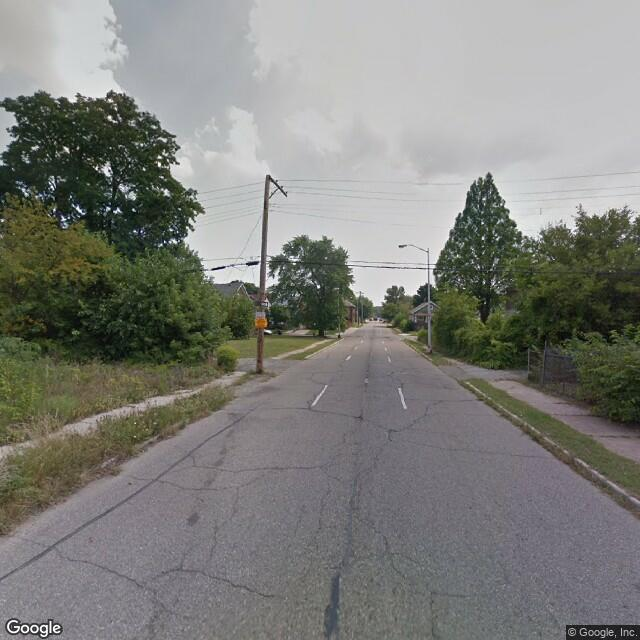litter: (130, 422, 139, 427), (132, 435, 138, 440), (152, 421, 158, 426)
